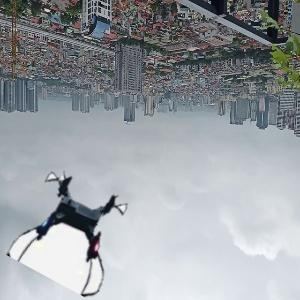drone: (19, 175, 129, 285)
